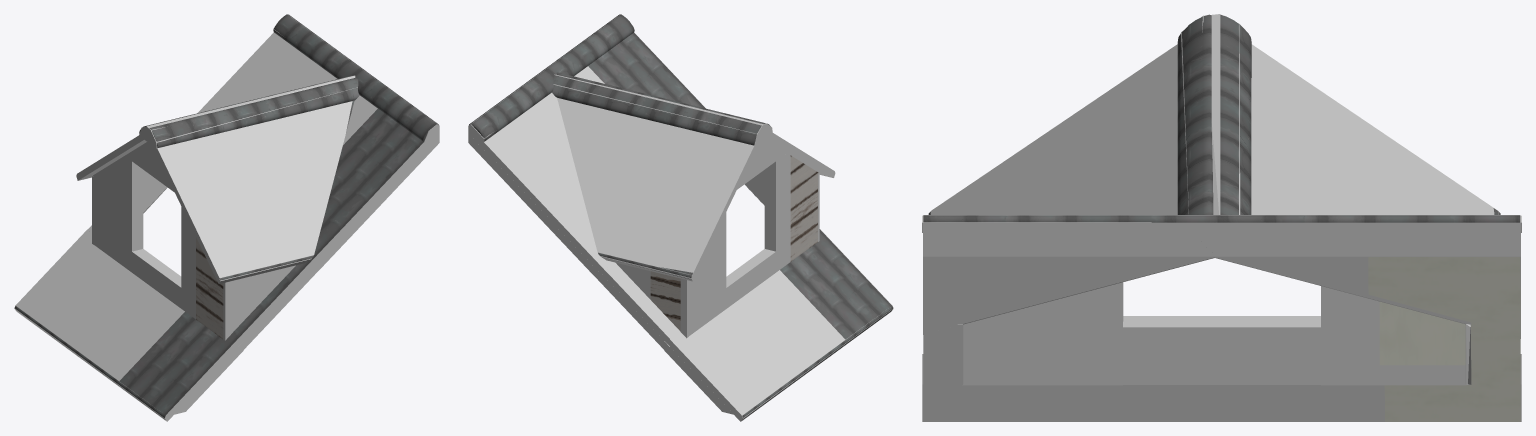
Rendered from SM_M01Roof01_5WindowTypeC.fbx.
3 views of the same model, side by side, from view 1: azimuth 30°, elevation 25°; view 2: azimuth 150°, elevation 25°; view 3: azimuth 270°, elevation 25° (orthographic). The views are drawn at different scales.
Visible parts, largest first — view 1: SM_M01Roof01_5WindowTypeC_ConvexHulls, SM_M01Roof01_5WindowTypeC; view 2: SM_M01Roof01_5WindowTypeC_ConvexHulls, SM_M01Roof01_5WindowTypeC; view 3: SM_M01Roof01_5WindowTypeC_ConvexHulls, SM_M01Roof01_5WindowTypeC.
Boxes of the visible parts, x1=… form: SM_M01Roof01_5WindowTypeC_ConvexHulls: x1=14, y1=14, x2=439, y2=421; SM_M01Roof01_5WindowTypeC: x1=15, y1=14, x2=438, y2=419; SM_M01Roof01_5WindowTypeC_ConvexHulls: x1=468, y1=14, x2=893, y2=421; SM_M01Roof01_5WindowTypeC: x1=469, y1=14, x2=893, y2=417; SM_M01Roof01_5WindowTypeC_ConvexHulls: x1=922, y1=14, x2=1521, y2=421; SM_M01Roof01_5WindowTypeC: x1=923, y1=14, x2=1520, y2=421.
Size of the model in its own units: 477 by 452 by 384.
Materials: 4 (3 with a texture image).
